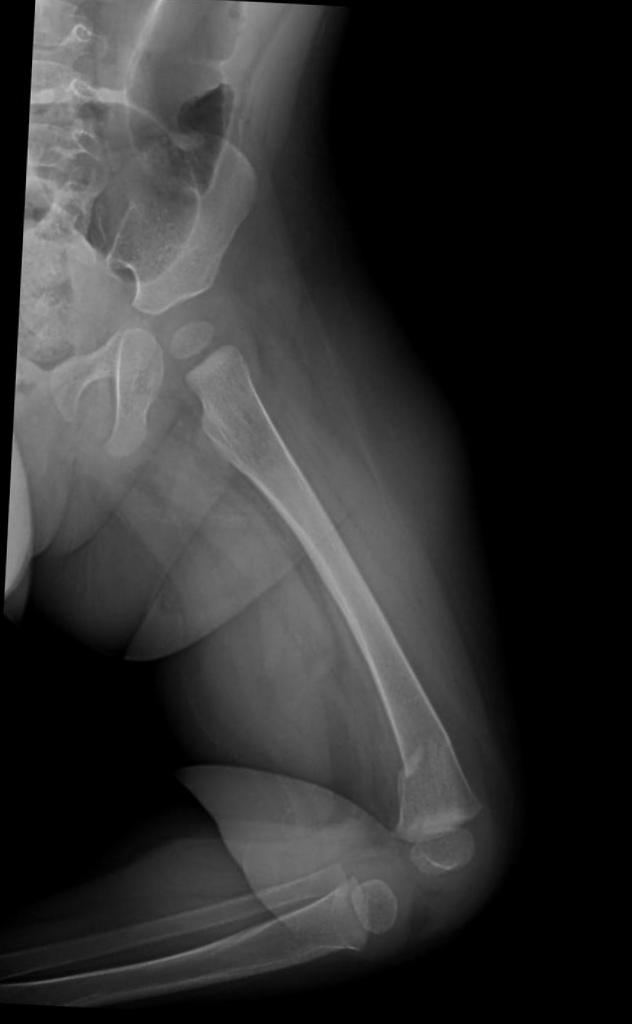line: (399, 740, 441, 776)
